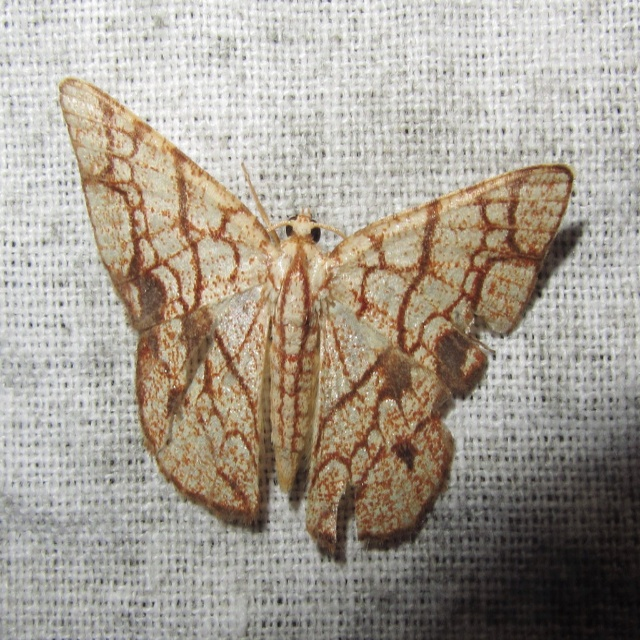Butterfly: (52, 101, 588, 559)
